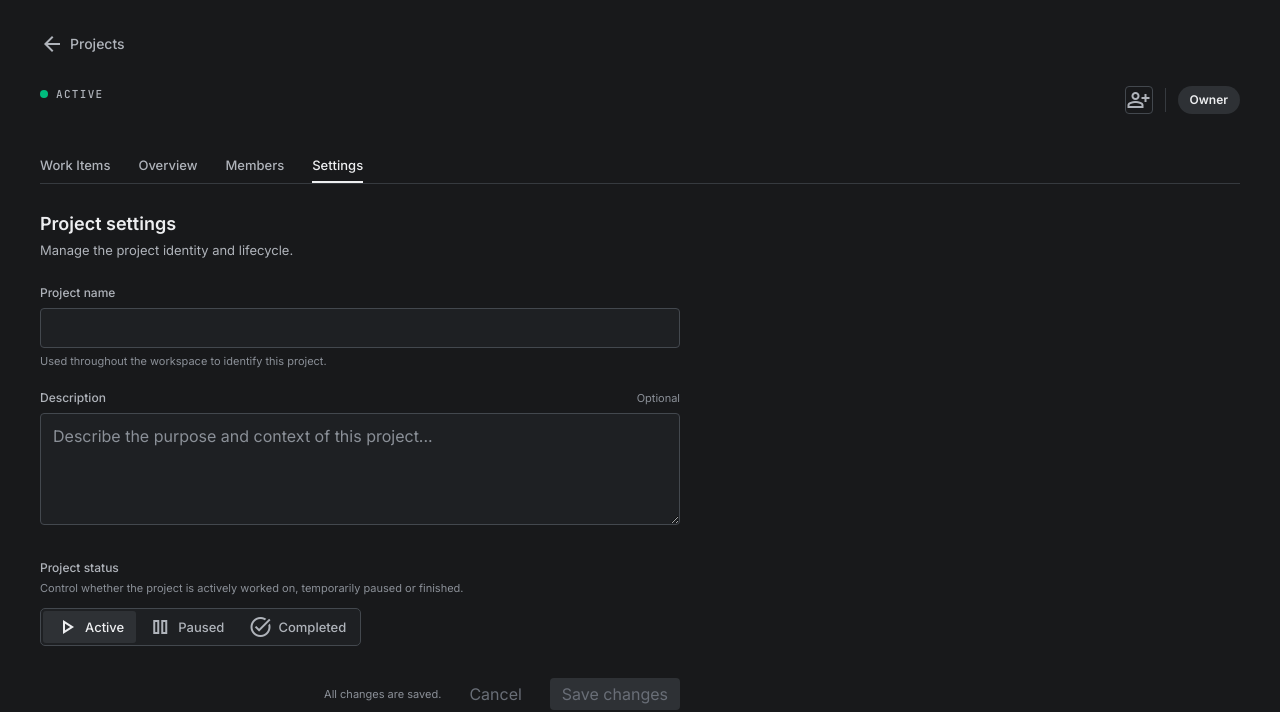
it: Project Settings page › restores persisted values and disables Save changes on Cancel
Check: the heading "Project settings" is shown, box [40, 213, 176, 234]
Type "Renamed settings project" into the field labelled "Project name".
click(360, 328); type("Renamed settings project")  # box [40, 308, 680, 348]
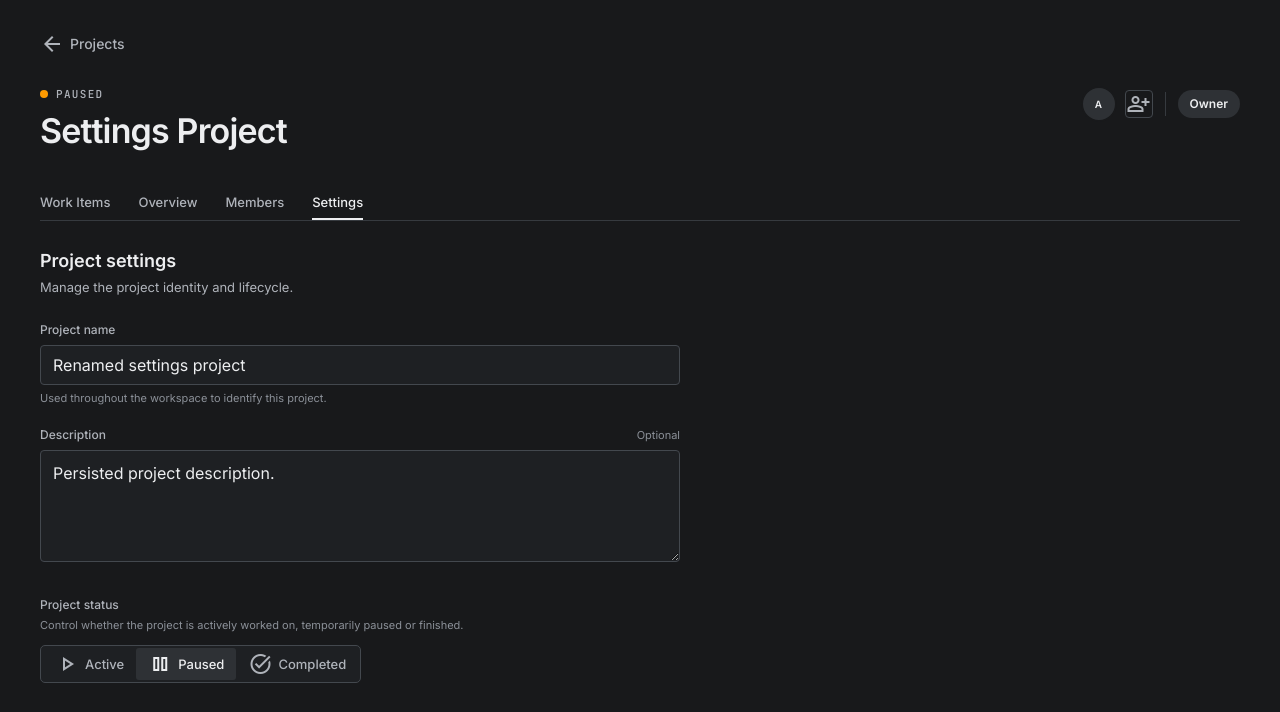
Click the radio button labelled "Completed".
click(297, 664)  # box [248, 650, 346, 678]
(page scrolled)
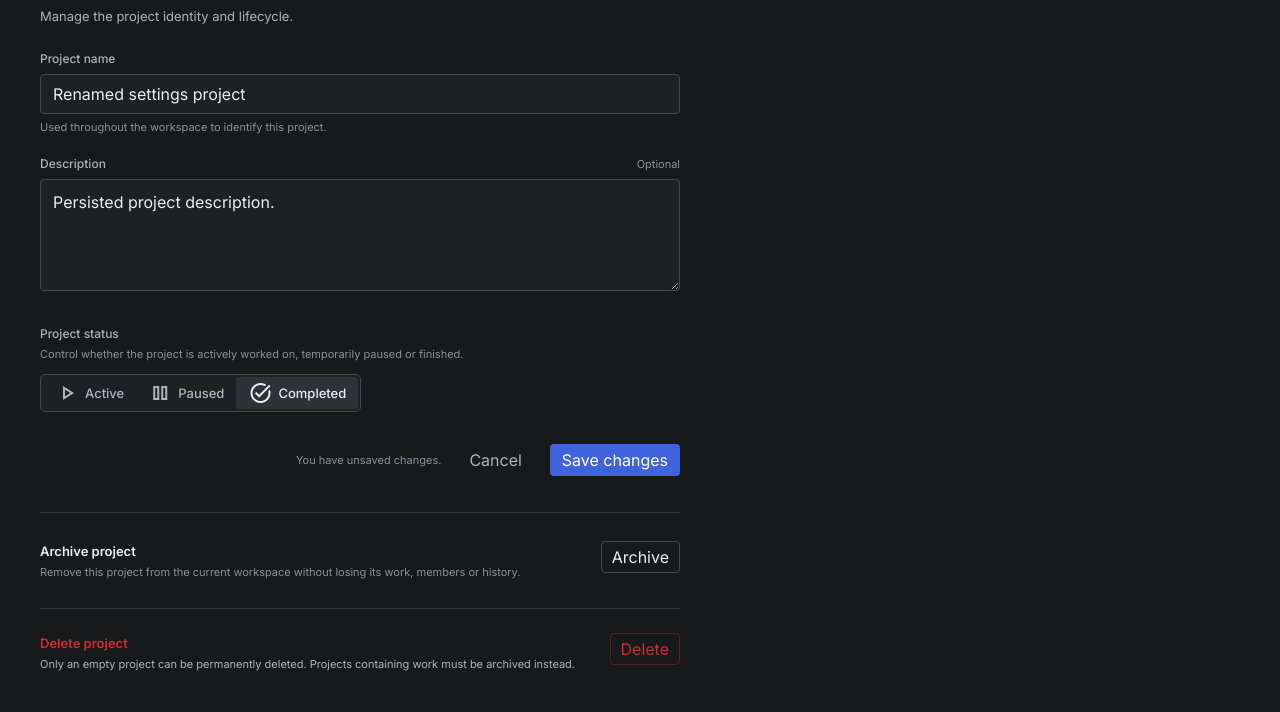
Check: the button "Save changes" is enabled, box [550, 444, 680, 476]
Click the button "Cancel".
click(496, 460)  # box [457, 444, 534, 476]
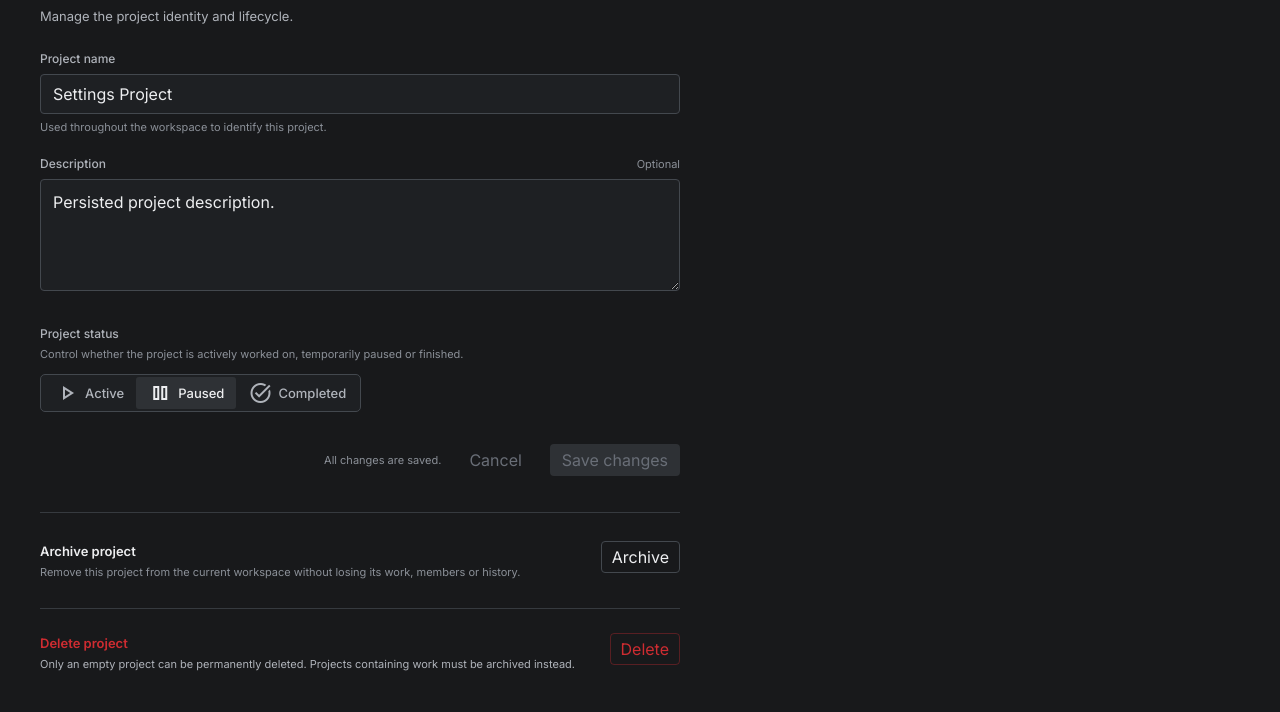
Check: the text box labelled "Description" holds "Persisted project description.", box [40, 179, 680, 291]
Check: the field labelled "Project name" holds "Settings Project", box [40, 74, 680, 114]
Check: the radio button labelled "Paused" is checked, box [136, 377, 236, 409]
